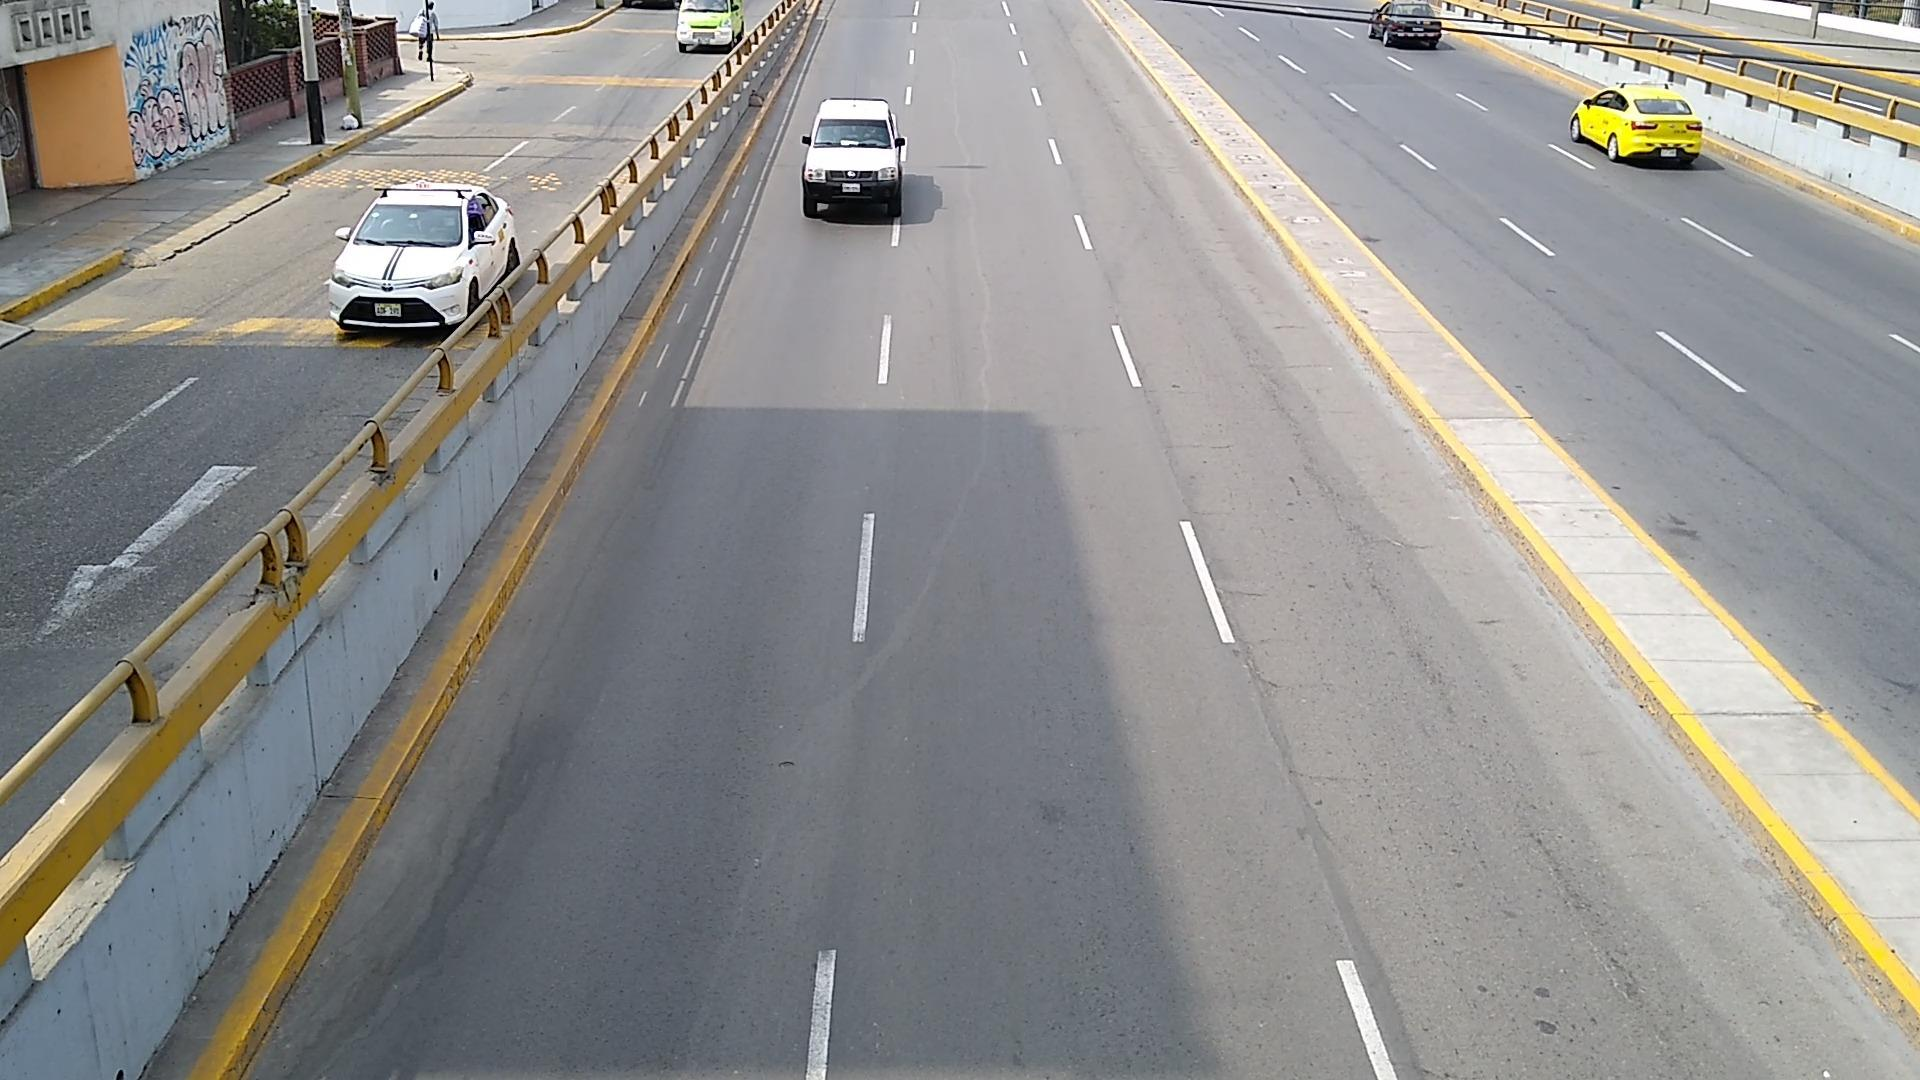car: (330, 179, 521, 330), (803, 98, 907, 218), (1572, 86, 1702, 165), (1369, 0, 1444, 49), (679, 0, 742, 49)
